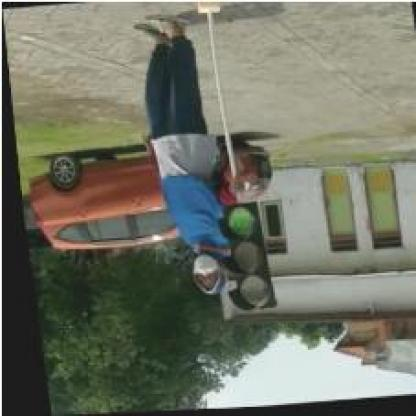green: (209, 202, 271, 314)
